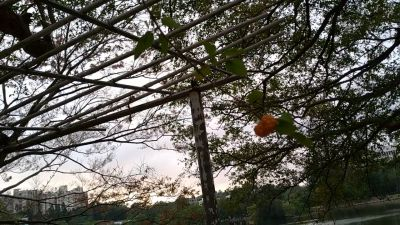eggs: (253, 113, 279, 137)
